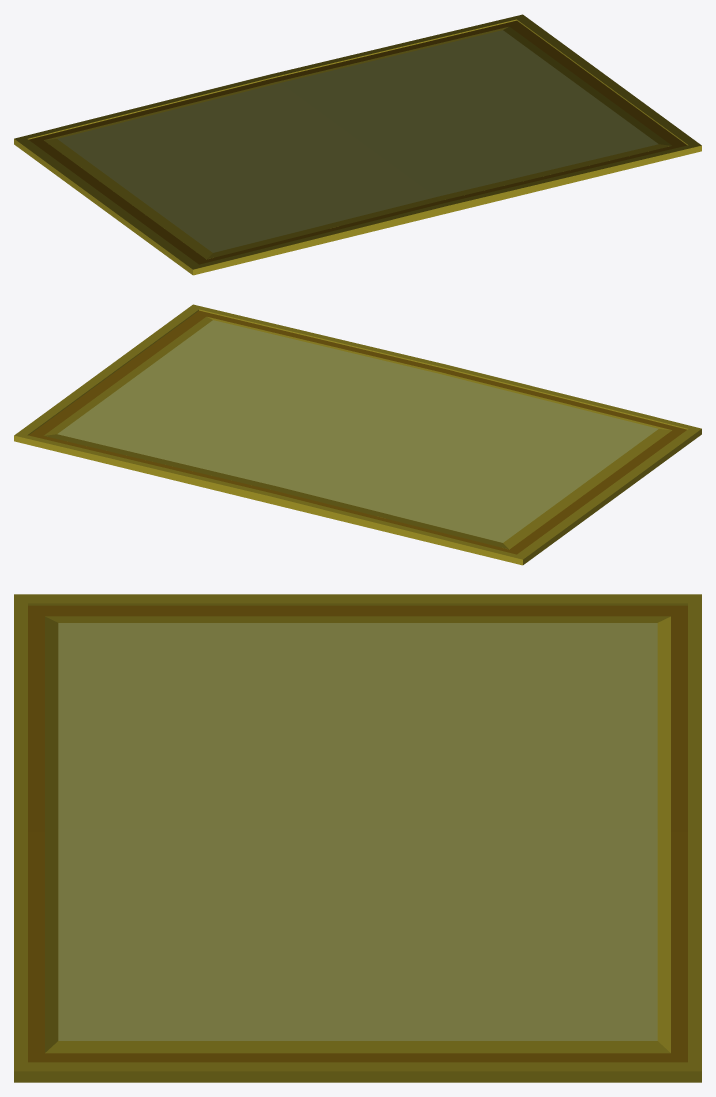
File: Picture Frame 9.fbx
3 renders of one model, top to bottom at view 1: azimuth 30°, elevation 25°; view 2: azimuth 150°, elevation 25°; view 3: azimuth 270°, elevation 25°, orthographic. The views are drawn at different scales.
Parts seen in each view (by area): view 1: Node 0; view 2: Node 0; view 3: Node 0.
Boxes of the visible parts, <box> form: Node 0: <box>14,14,701,275</box>; Node 0: <box>14,304,701,565</box>; Node 0: <box>14,594,701,1082</box>.
Bounding box in the file's own units: 1.41 × 0.034 × 2.32.
